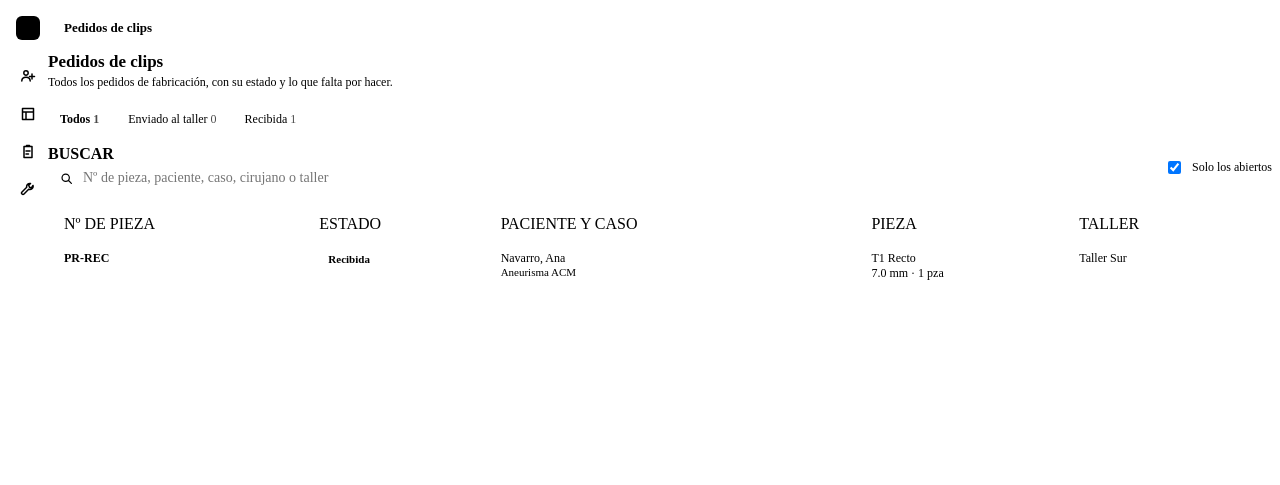
Test: the actions on a received piece › does not repeat «aceptar» and «rechazar» as generic next steps
Click the text "PR-REC" at (87, 258), box [64,241,319,291]
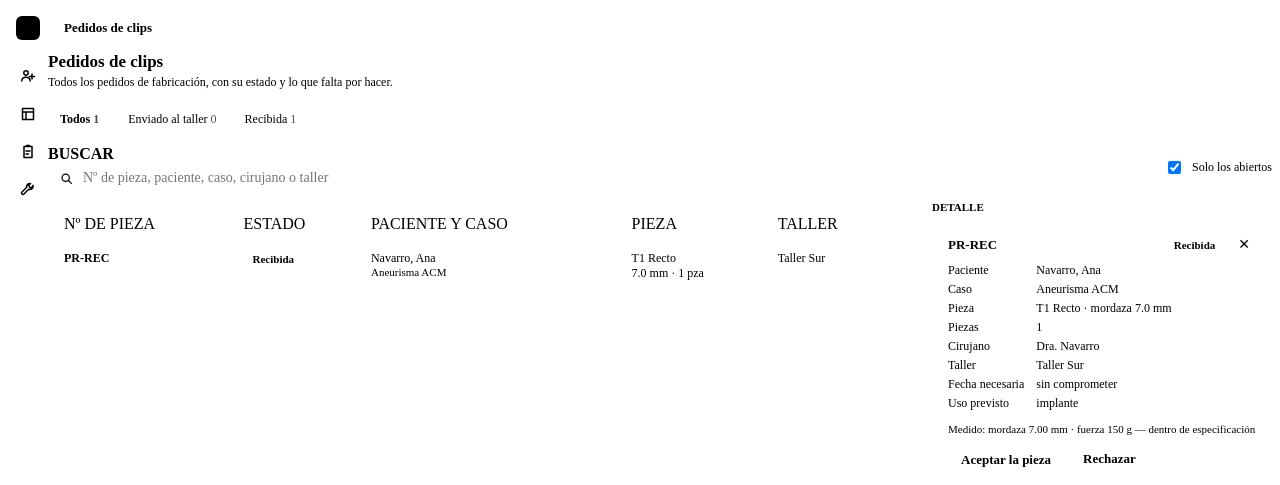
Check: the number of buttons "Rechazar" is 1, box [1070,450,1149,468]
